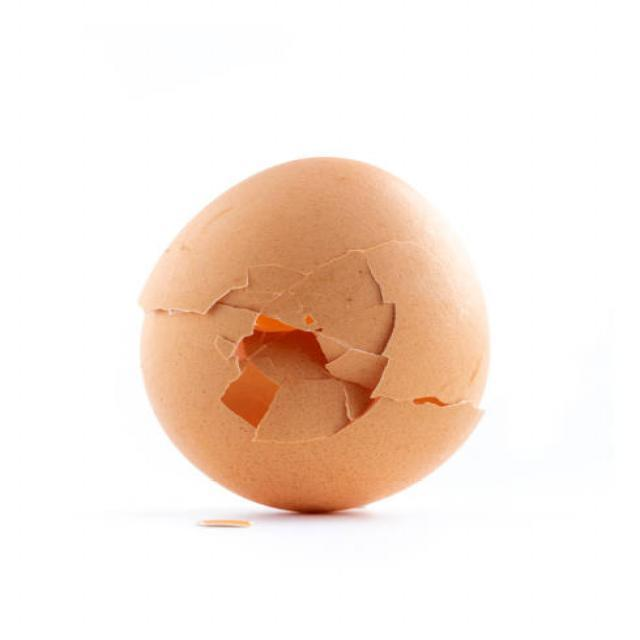biodegradable: (126, 146, 504, 518)
